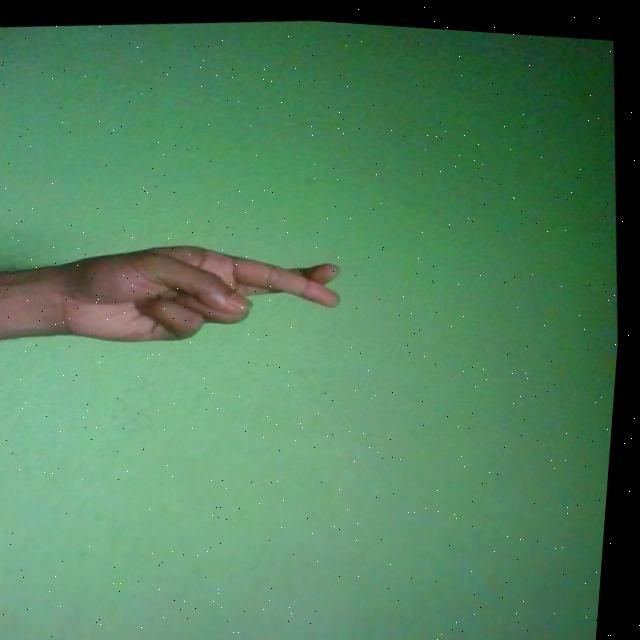Good Luck: (42, 220, 352, 359)
